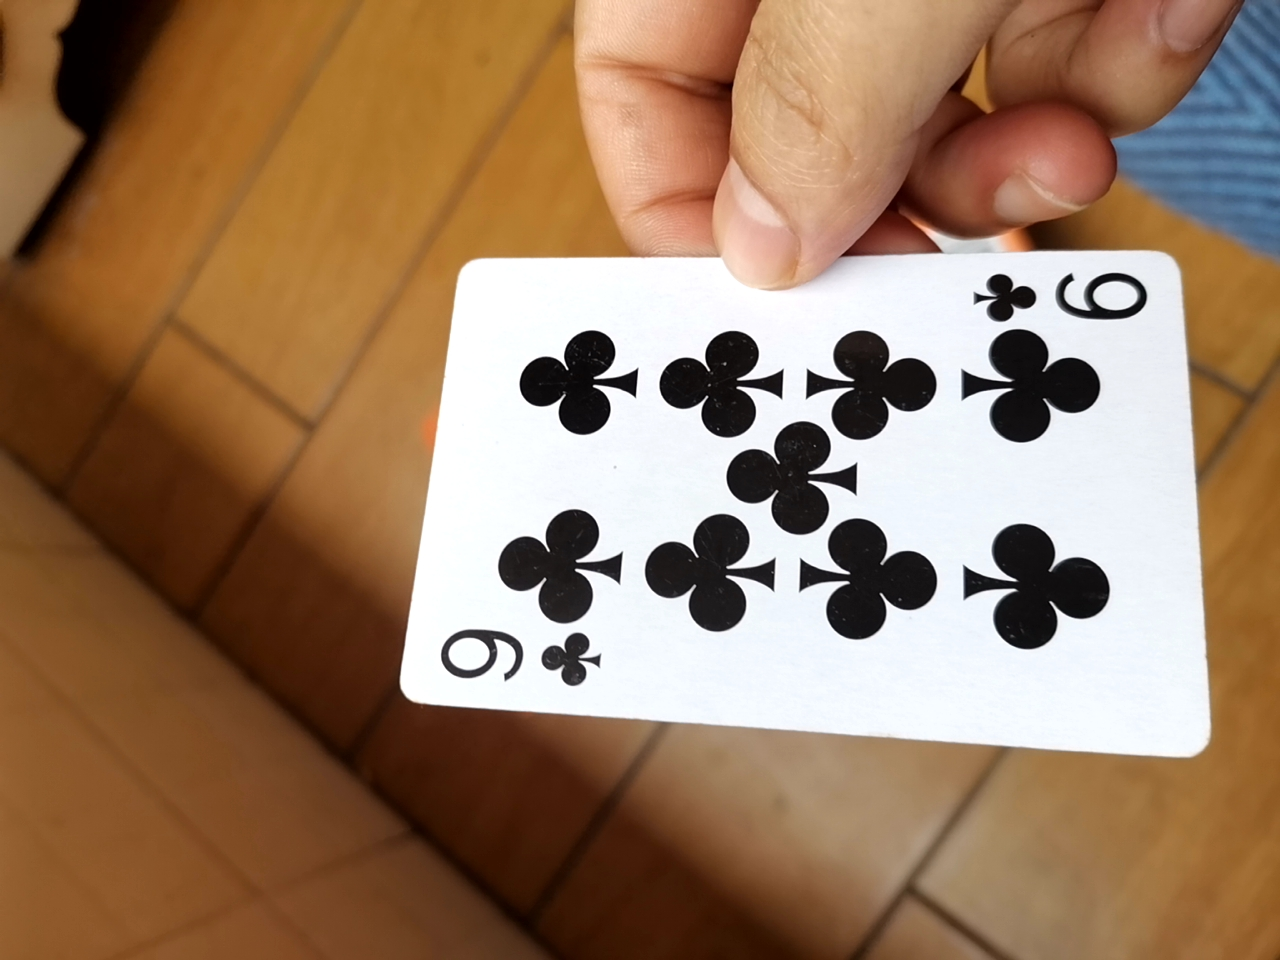mh 9: (380, 248, 1198, 760)
